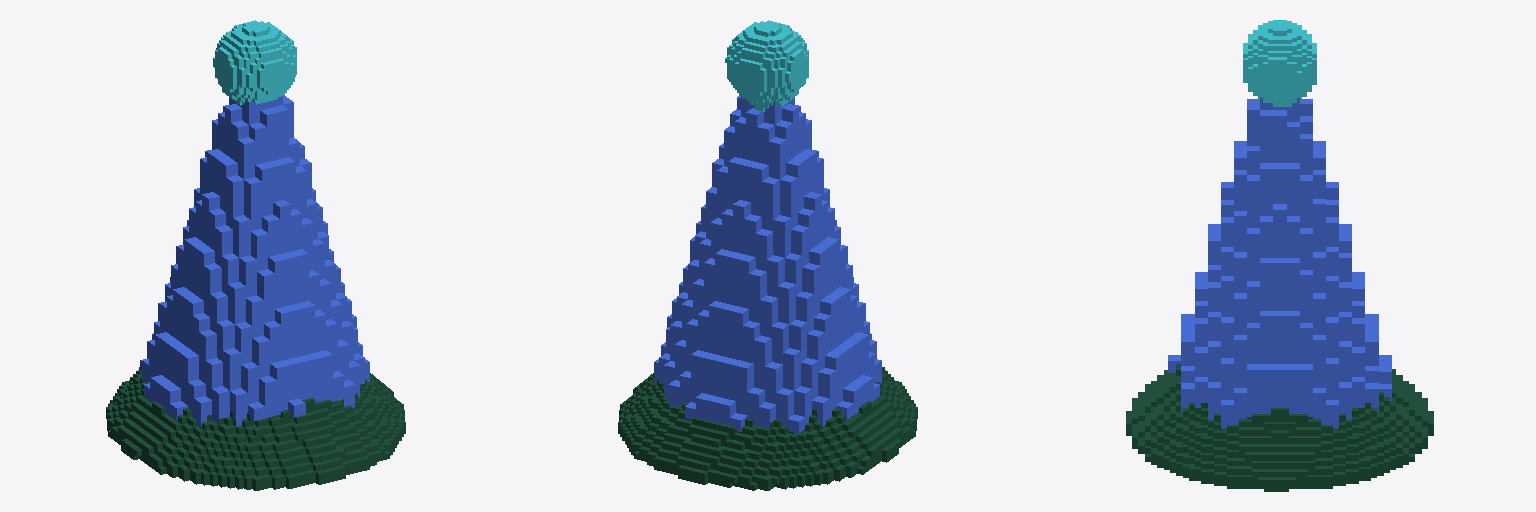
The robot description file, URDF, robot "physxnet_10102_strict":
<?xml version='1.0' encoding='utf-8'?>
<robot name="physxnet_10102_strict">
  <link name="l_world">
    <inertial>
      <origin xyz="0 0 0" rpy="0 0 0" />
      <mass value="0.0100000000" />
      <inertia ixx="0.0000001667" ixy="0.0" ixz="0.0" iyy="0.0000001667" iyz="0.0" izz="0.0000001667" />
    </inertial>
  </link><link name="l_0">
    <inertial>
      <origin xyz="-0.0019618548 0.0009125143 -0.0096117497" rpy="0 0 0" />
      <mass value="0.0306007865" />
      <inertia ixx="0.0002427041" ixy="0.0" ixz="0.0" iyy="0.0002433824" iyz="0.0" izz="0.0001315413" />
    </inertial><visual>
      <origin xyz="0 0 0" rpy="0 0 0" />
      <geometry>
        <mesh filename="../rigid_visuals/part_000_visual.obj" scale="1 1 1" />
      </geometry><material name="mat_l_0">
        <color rgba="0.32548 0.48041 0.93131 1.00000" />
      </material>
    </visual><collision>
      <origin xyz="0 0 0" rpy="0 0 0" />
      <geometry>
        <mesh filename="part_000_collision.obj" scale="1 1 1" />
      </geometry>
    </collision>
  </link><joint name="joint_fixed_l_world_l_0" type="fixed">
    <parent link="l_world" />
    <child link="l_0" />
    <origin xyz="0 0 0" rpy="0 0 0" />
  </joint><link name="l_1">
    <inertial>
      <origin xyz="0.0000000000 -0.0000000000 -0.1497569154" rpy="0 0 0" />
      <mass value="0.0037851098" />
      <inertia ixx="0.0000189971" ixy="0.0" ixz="0.0" iyy="0.0000176707" iyz="0.0" izz="0.0000350599" />
    </inertial><visual>
      <origin xyz="0 0 0" rpy="0 0 0" />
      <geometry>
        <mesh filename="../rigid_visuals/part_001_visual.obj" scale="1 1 1" />
      </geometry><material name="mat_l_1">
        <color rgba="0.15447 0.35718 0.26453 1.00000" />
      </material>
    </visual><collision>
      <origin xyz="0 0 0" rpy="0 0 0" />
      <geometry>
        <mesh filename="part_001_collision.obj" scale="1 1 1" />
      </geometry>
    </collision>
  </link><joint name="joint_fixed_l_0_l_1" type="fixed">
    <parent link="l_0" />
    <child link="l_1" />
    <origin xyz="0 0 0" rpy="0 0 0" />
  </joint><link name="l_2">
    <inertial>
      <origin xyz="-0.0000038255 0.0001467725 0.1429967093" rpy="0 0 0" />
      <mass value="0.0001318543" />
      <inertia ixx="0.0000000816" ixy="0.0" ixz="0.0" iyy="0.0000000839" iyz="0.0" izz="0.0000000755" />
    </inertial><visual>
      <origin xyz="0 0 0" rpy="0 0 0" />
      <geometry>
        <mesh filename="../rigid_visuals/part_002_visual.obj" scale="1 1 1" />
      </geometry><material name="mat_l_2">
        <color rgba="0.29417 0.82410 0.87988 1.00000" />
      </material>
    </visual><collision>
      <origin xyz="0 0 0" rpy="0 0 0" />
      <geometry>
        <mesh filename="part_002_collision.obj" scale="1 1 1" />
      </geometry>
    </collision>
  </link><joint name="joint_fixed_l_1_l_2" type="fixed">
    <parent link="l_1" />
    <child link="l_2" />
    <origin xyz="0 0 0" rpy="0 0 0" />
  </joint>
</robot>

--- Facts derived from the render (not from the file) ---
3 views of the same robot in one strip: view 1: azimuth 30°, elevation 25°; view 2: azimuth 150°, elevation 25°; view 3: azimuth 270°, elevation 25° (orthographic).
Robot: physxnet_10102_strict — 4 links, 3 joints (3 fixed); root link l_world; default pose: all joints at 0.
Visible links, largest first — view 1: l_0, l_1, l_2; view 2: l_0, l_1, l_2; view 3: l_0, l_1, l_2.
Link boxes in pixels (x1,y1,x2,y2): l_0: [140, 96, 369, 426]; l_1: [106, 367, 405, 490]; l_2: [213, 20, 296, 105]; l_0: [654, 96, 881, 433]; l_1: [618, 367, 917, 490]; l_2: [725, 20, 808, 111]; l_0: [1168, 98, 1391, 428]; l_1: [1126, 364, 1433, 491]; l_2: [1243, 20, 1316, 106].
Size in the robot's own frame: 0.2373 by 0.2474 by 0.3572 metres.
Meshes: 3 distinct files referenced, 3 mesh visuals loaded (3 OBJ).
